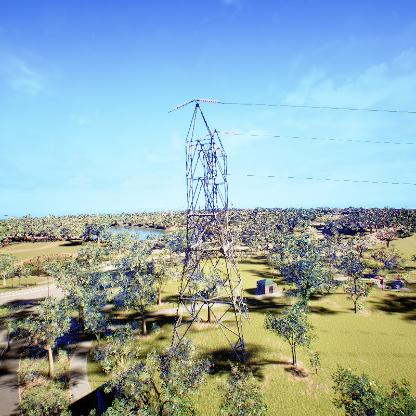tower: (163, 95, 257, 377)
